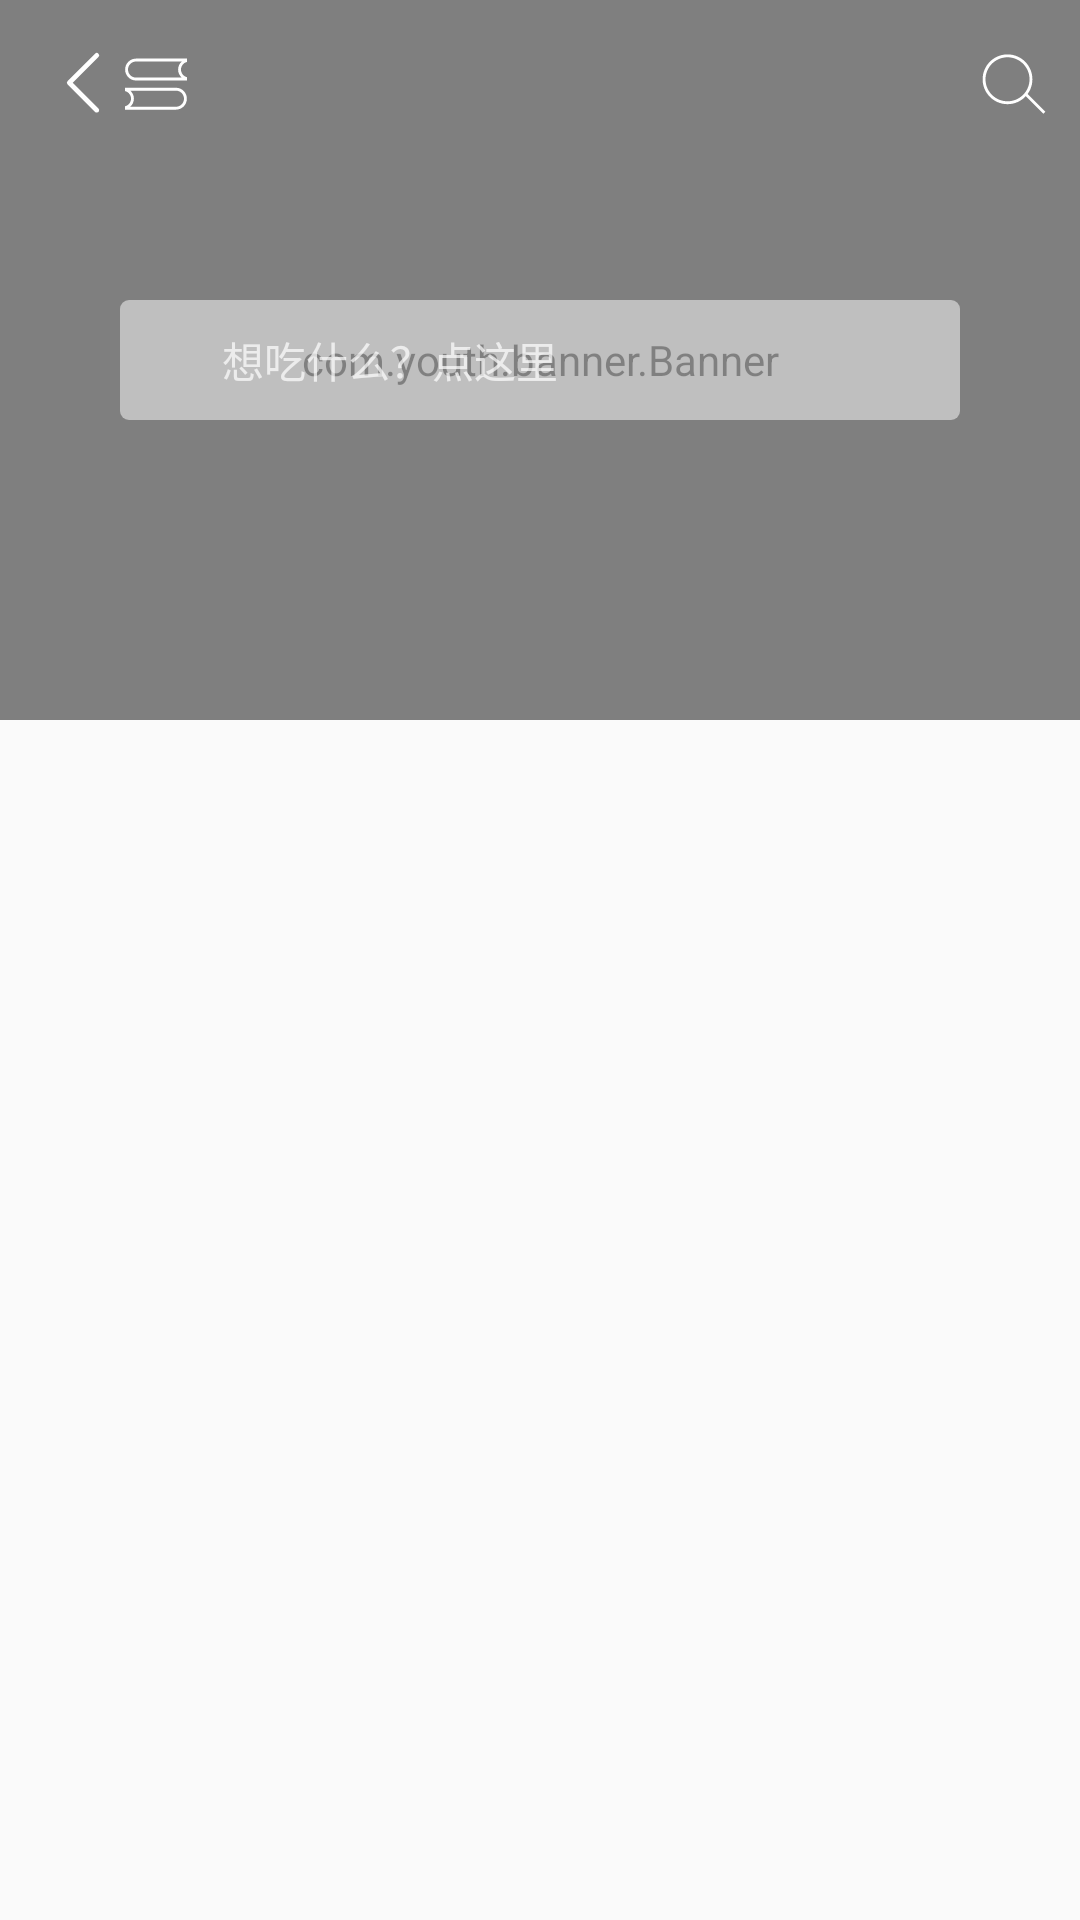

Icons on this 1080 x 1920 Android screen, each with its box as (x1, y1, x2, y2):
back: (67, 53, 99, 113)
book: (125, 58, 187, 110)
search: (982, 54, 1045, 114)
